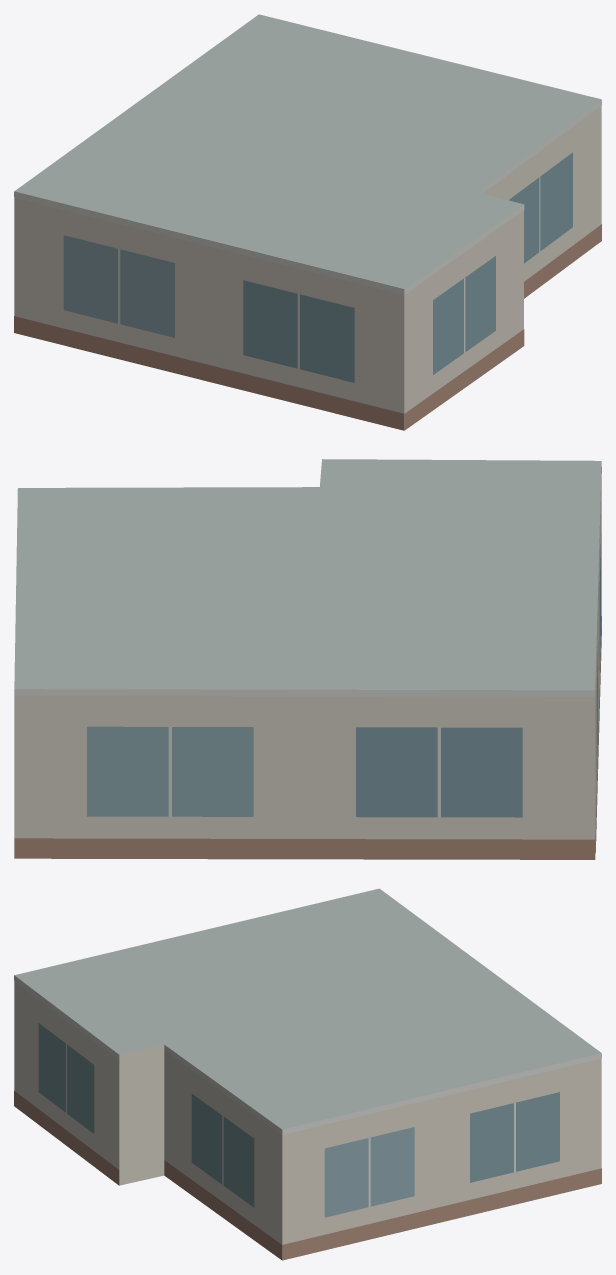
The model's file is survey-upis-32720105.glb.
3 views of the same model, one above another, from view 1: azimuth 30°, elevation 25°; view 2: azimuth 150°, elevation 25°; view 3: azimuth 270°, elevation 25° (orthographic). The views are drawn at different scales.
Visible parts, largest first — view 1: survey-upis-32720105.tmp; view 2: survey-upis-32720105.tmp; view 3: survey-upis-32720105.tmp.
Part boxes in pixels (x1,y1,x2,y2): survey-upis-32720105.tmp: (14,14,601,430); survey-upis-32720105.tmp: (14,459,601,859); survey-upis-32720105.tmp: (14,888,601,1260).
Size of the model in its own units: 12.07 by 3.05 by 12.43.
